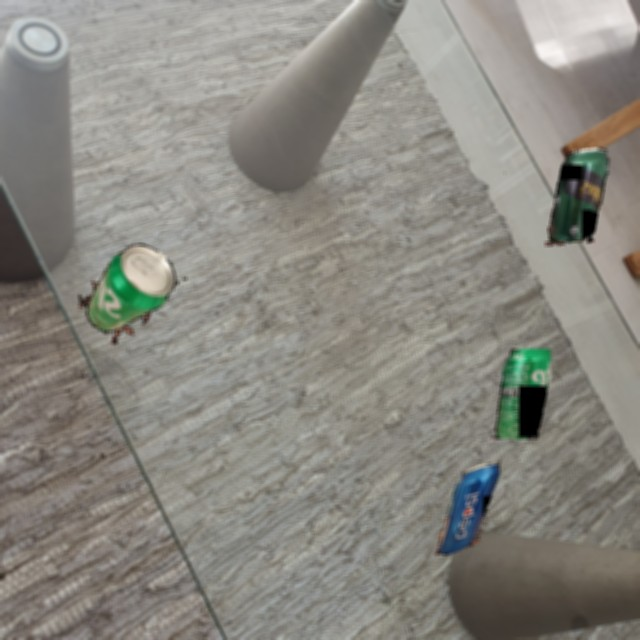pepsi: (433, 460, 501, 555)
schweppes: (545, 140, 612, 253)
sprite: (58, 224, 199, 358), (488, 349, 551, 439)
